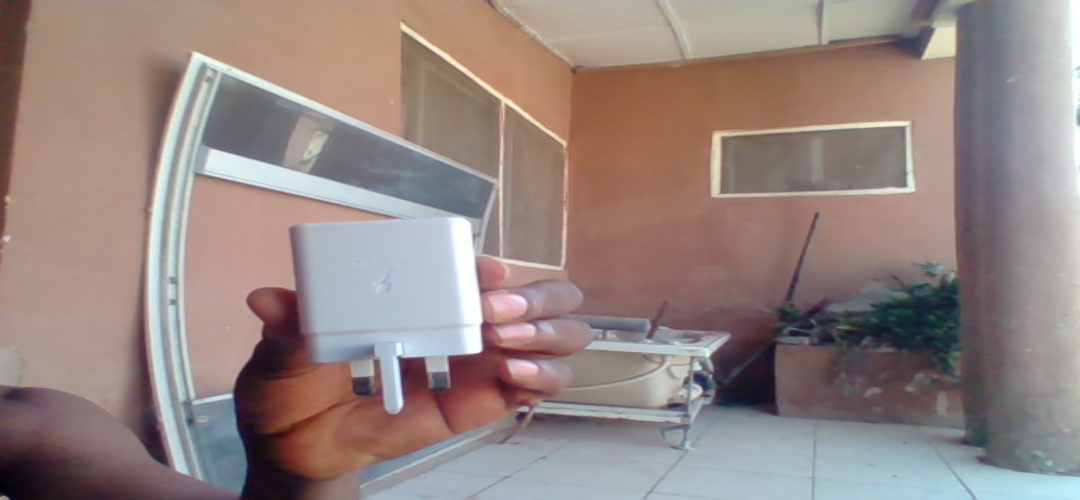phone_charger: (288, 219, 489, 415)
